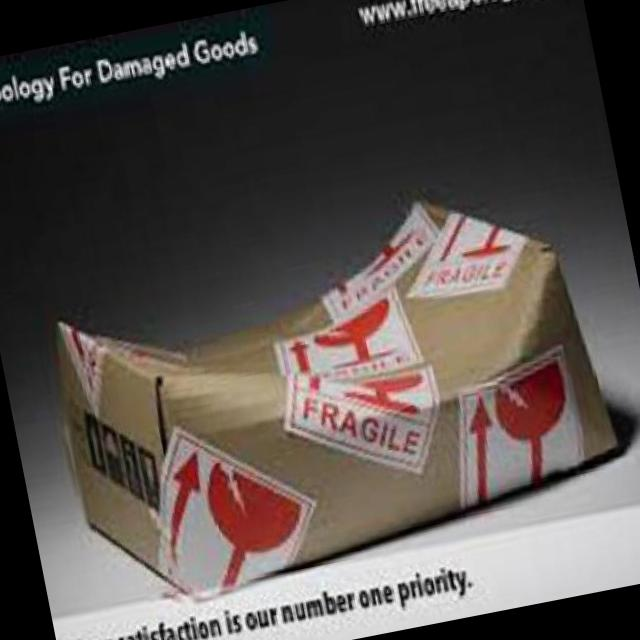box: (67, 1, 591, 585)
